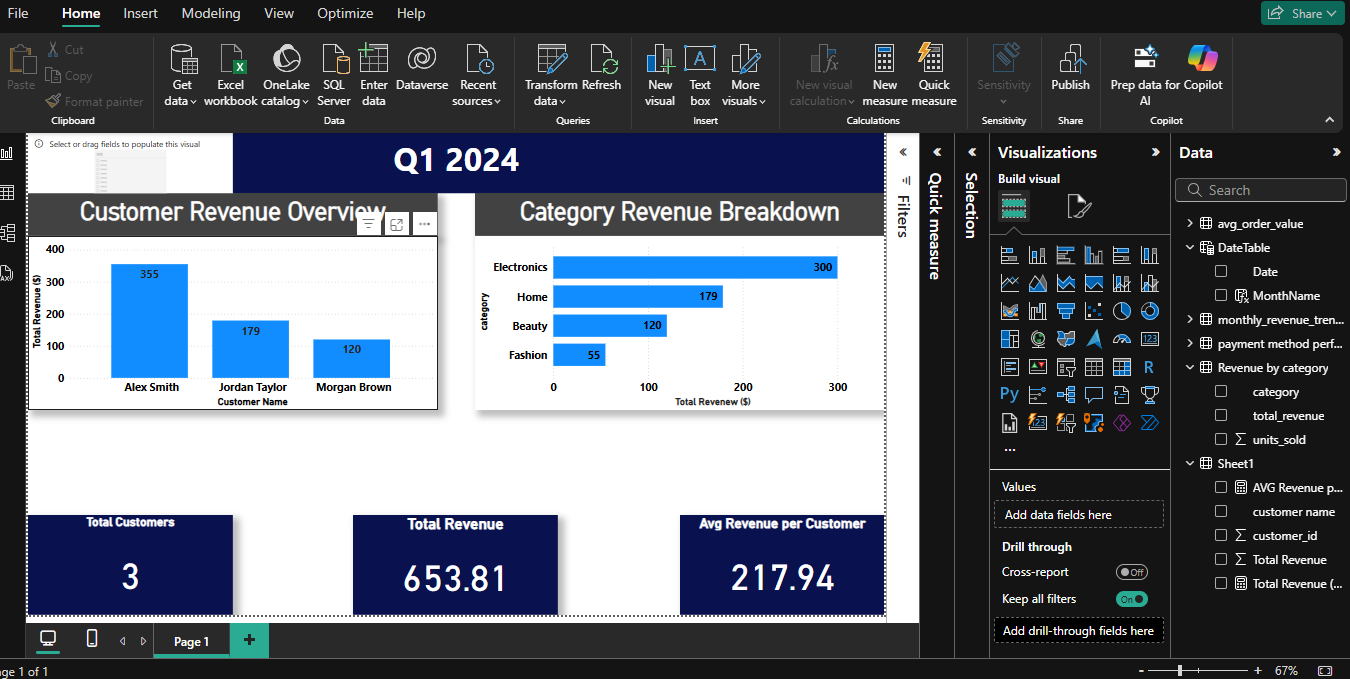

This screenshot's page, from the dashboard's own definition file:
{"tool":"powerbi","page":{"name":"Page 1","canvas":[1280,720],"ordinal":0},"visuals":[{"type":"textbox","box":[0,0,1280,107.8],"z":0},{"type":"textbox","box":[0,107.8,591.9,58],"z":1000},{"type":"barChart","fields":{"Category":["sample_sheet1_data.customer name"],"Y":["sample_sheet1_data.Total Revenue"]},"box":[0,165.8,591.9,356.5],"z":2000},{"type":"textbox","box":[640,107.8,640,58],"z":3000},{"type":"clusteredColumnChart","fields":{"Category":["sample_sheet1_data.Category"],"Y":["sample_sheet1_data.Total Revenue"]},"box":[640,165.8,640,356.5],"z":4000},{"type":"card","title":"Total Customer","fields":{"Values":["sample_sheet1_data.customer_id"]},"box":[0,532.2,308.4,187.4],"z":5000},{"type":"card","title":"Total Revenue","fields":{"Values":["sample_sheet1_data.Total Revenue"]},"box":[485.8,532.2,308.4,187.4],"z":5001},{"type":"card","title":"Avg per Customer ","fields":{"Values":["sample_sheet1_data.Avg Revenue per Customer"]},"box":[971.6,532.2,308.4,187.4],"z":5002},{"type":"slicer","fields":{"Values":["DateTable.MonthName"]},"box":[0,0,283.5,68],"z":5003}]}

Visuals, with their boxes on the page's 1280x720 design canvas (x1, y1, x2, y2). These are canvas units, not pixel positions in the 1350x679 screenshot, which may show the page scaled, cropped or inside an application window:
textbox: <bbox>0, 0, 1280, 108</bbox>
textbox: <bbox>0, 108, 592, 166</bbox>
barChart - sample_sheet1_data.customer name x sample_sheet1_data.Total Revenue: <bbox>0, 166, 592, 522</bbox>
textbox: <bbox>640, 108, 1280, 166</bbox>
clusteredColumnChart - sample_sheet1_data.Category x sample_sheet1_data.Total Revenue: <bbox>640, 166, 1280, 522</bbox>
"Total Customer" card: <bbox>0, 532, 308, 720</bbox>
"Total Revenue" card: <bbox>486, 532, 794, 720</bbox>
"Avg per Customer " card: <bbox>972, 532, 1280, 720</bbox>
slicer - DateTable.MonthName: <bbox>0, 0, 284, 68</bbox>
